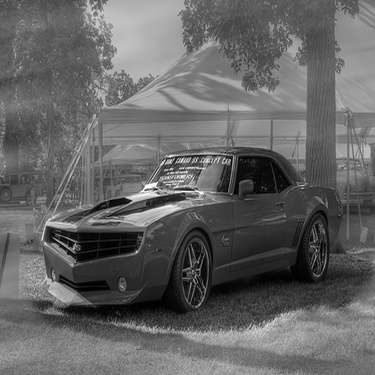car: (20, 138, 352, 316), (310, 143, 371, 206), (4, 161, 55, 213)
